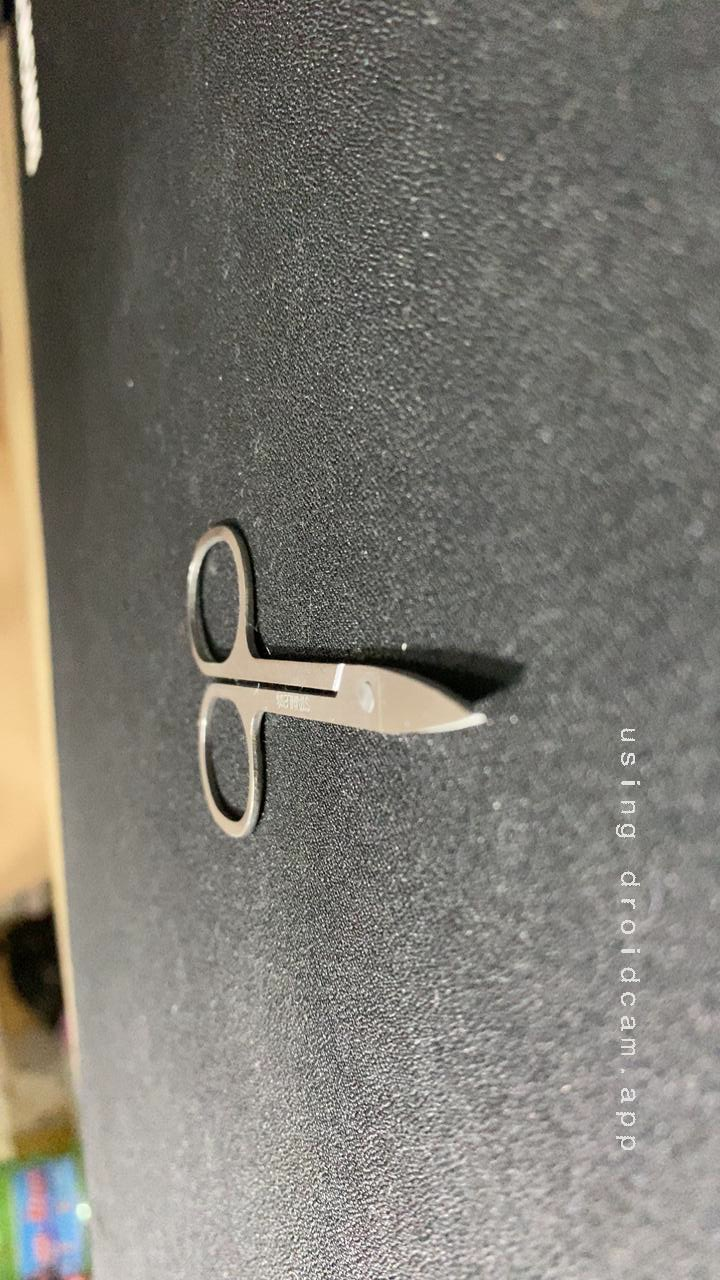scissor: (70, 504, 398, 872)
